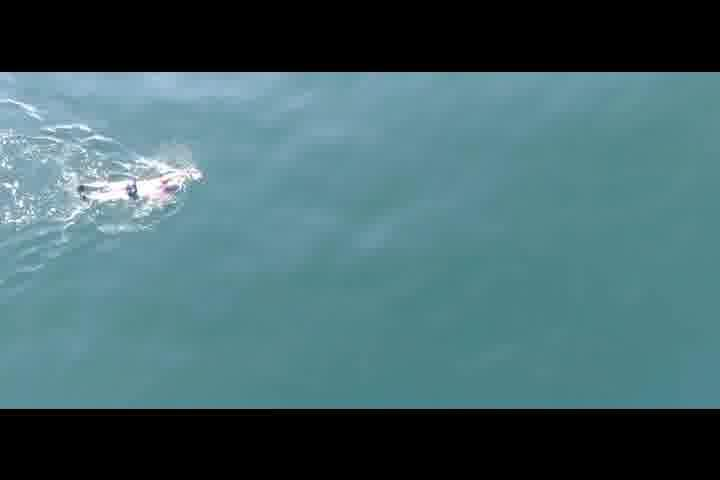swimmer: (75, 166, 194, 210)
